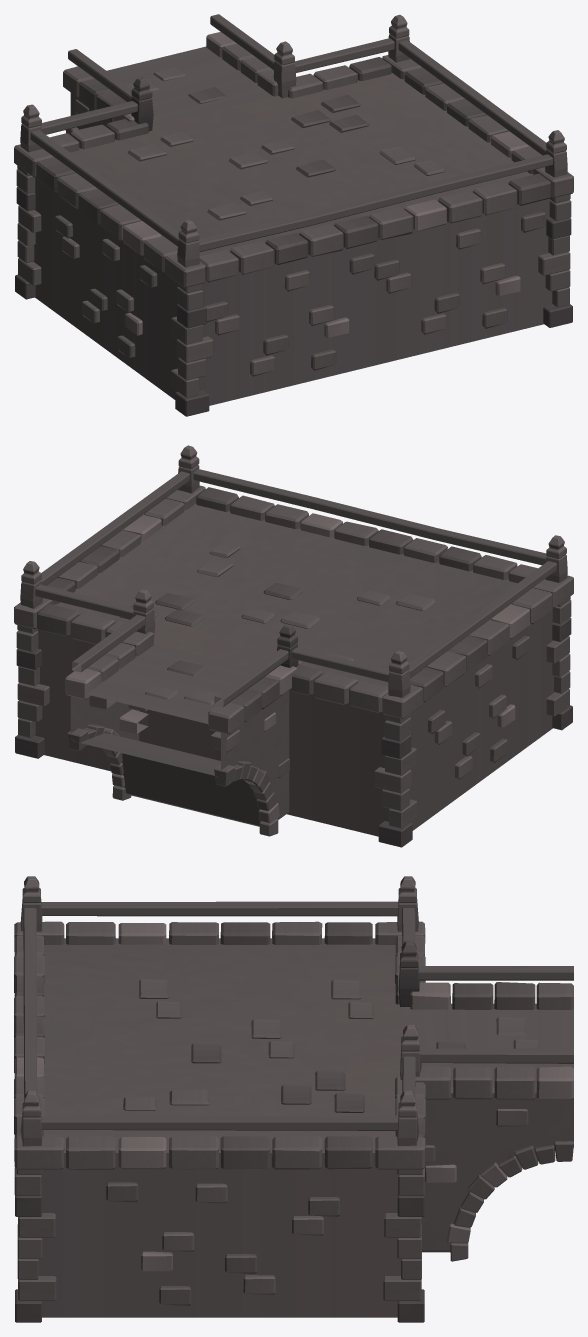
The model's file is UjungJembatan.fbx.
The picture shows the model from 3 angles, top to bottom: view 1: azimuth 30°, elevation 25°; view 2: azimuth 150°, elevation 25°; view 3: azimuth 270°, elevation 25°; orthographic projection. The views are drawn at different scales.
Parts seen in each view (by area): view 1: Plane.001; view 2: Plane.001; view 3: Plane.001.
Part boxes in pixels (x1,y1,x2,y2): Plane.001: (14,14,573,416); Plane.001: (14,445,573,847); Plane.001: (14,876,573,1322).
Bounding box in the file's own units: 931 × 441 × 968.
1 material, 1 textured.
